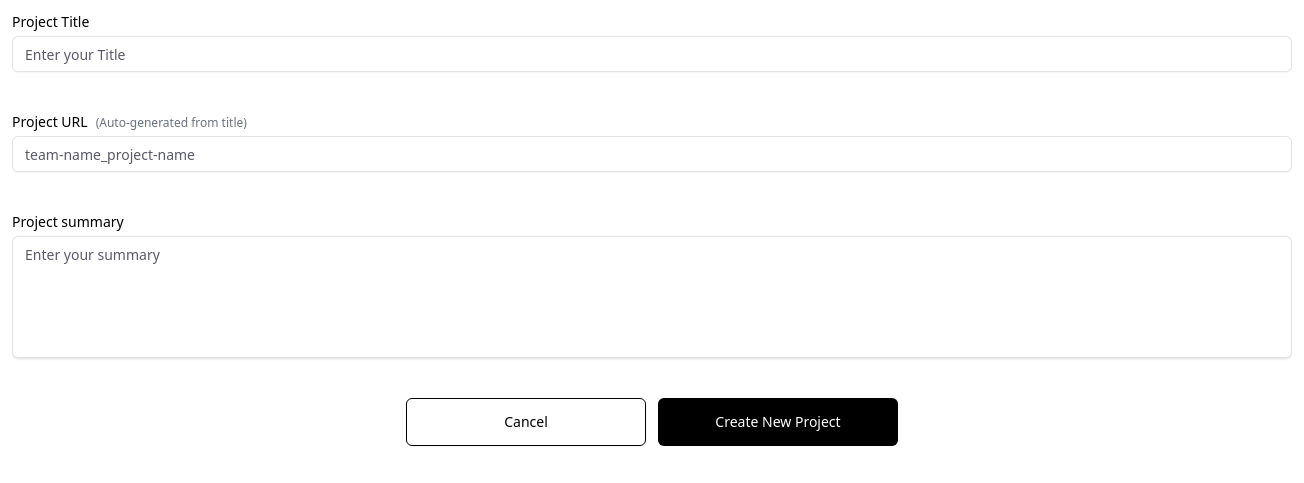
Scenario: ProjectForm - 통합 테스트 › 생성 모드 › Title을 입력하면 URL이 자동으로 생성된다
This screenshot has width=1304, height=483.
Note: Title 입력
Type "My Test Project" into the field with placeholder "Enter your Title". click: x=652, y=54
box: [12,36,1292,72]
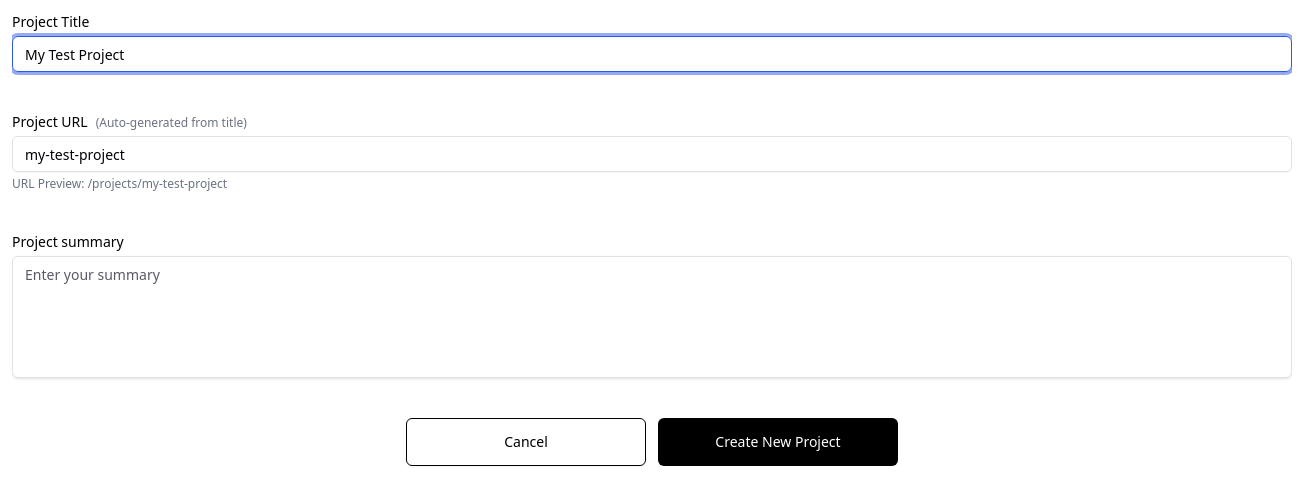
expect the field with placeholder "team-name_project-name" below "Project URL" holds "my-test-project": met, box [12,136,1292,172]
